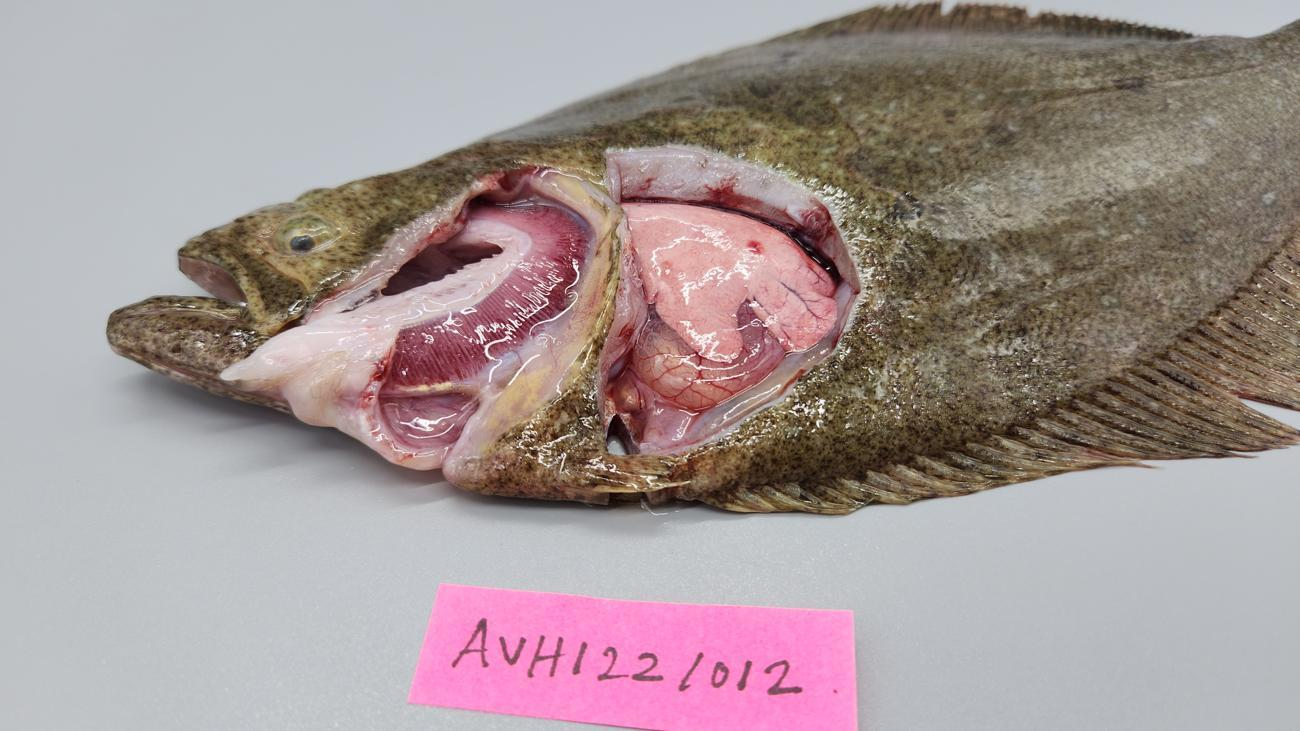VIGIP: (389, 203, 586, 384)
